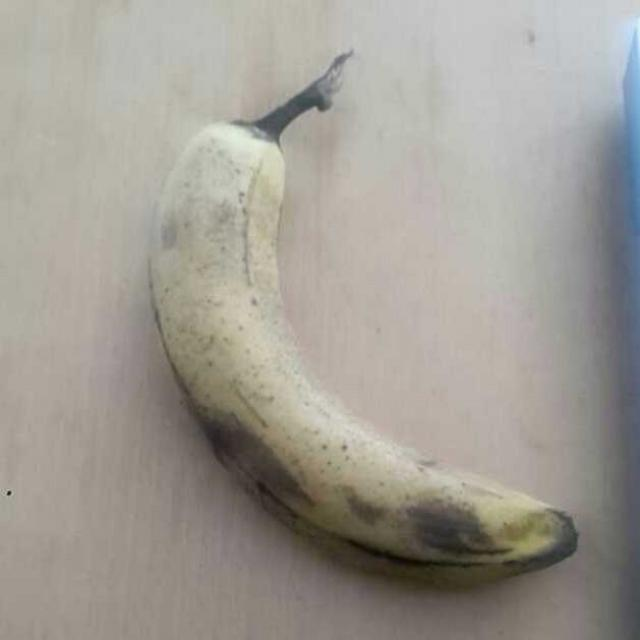banana: (154, 133, 562, 568)
